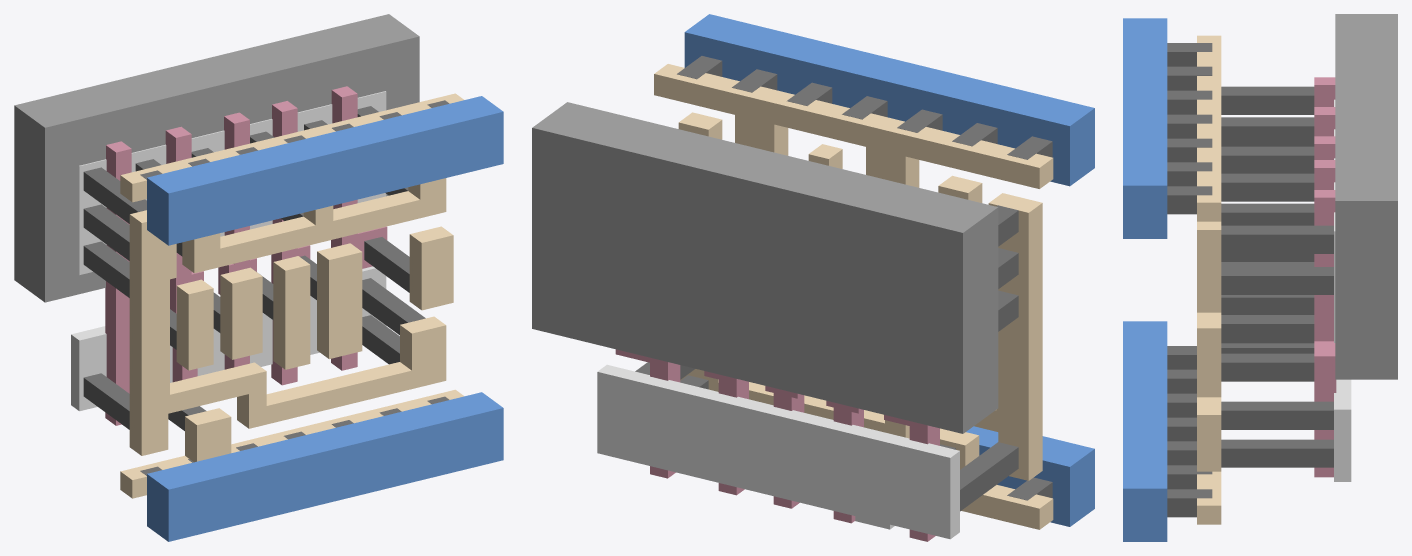
The model's file is sky130_fd_sc_hd__a41oi_1.gds.gltf.
3 renders of one model, left to right at view 1: azimuth 30°, elevation 25°; view 2: azimuth 150°, elevation 25°; view 3: azimuth 270°, elevation 25°, orthographic. The views are drawn at different scales.
Visible parts, largest first — view 1: sky130_fd_sc_hd__a41oi_1_li1, sky130_fd_sc_hd__a41oi_1_met1, sky130_fd_sc_hd__a41oi_1_nwell, sky130_fd_sc_hd__a41oi_1_licon, sky130_fd_sc_hd__a41oi_1_poly, sky130_fd_sc_hd__a41oi_1_diff, sky130_fd_sc_hd__a41oi_1_mcon; view 2: sky130_fd_sc_hd__a41oi_1_nwell, sky130_fd_sc_hd__a41oi_1_li1, sky130_fd_sc_hd__a41oi_1_diff, sky130_fd_sc_hd__a41oi_1_met1, sky130_fd_sc_hd__a41oi_1_mcon, sky130_fd_sc_hd__a41oi_1_licon, sky130_fd_sc_hd__a41oi_1_poly; view 3: sky130_fd_sc_hd__a41oi_1_licon, sky130_fd_sc_hd__a41oi_1_nwell, sky130_fd_sc_hd__a41oi_1_met1, sky130_fd_sc_hd__a41oi_1_mcon, sky130_fd_sc_hd__a41oi_1_li1, sky130_fd_sc_hd__a41oi_1_poly, sky130_fd_sc_hd__a41oi_1_diff.
Boxes of the visible parts, <box> form: sky130_fd_sc_hd__a41oi_1_li1: <box>120,93,463,498</box>; sky130_fd_sc_hd__a41oi_1_met1: <box>147,96,503,541</box>; sky130_fd_sc_hd__a41oi_1_nwell: <box>14,14,419,302</box>; sky130_fd_sc_hd__a41oi_1_licon: <box>83,106,425,430</box>; sky130_fd_sc_hd__a41oi_1_poly: <box>105,86,387,425</box>; sky130_fd_sc_hd__a41oi_1_diff: <box>71,91,386,411</box>; sky130_fd_sc_hd__a41oi_1_mcon: <box>140,100,449,475</box>; sky130_fd_sc_hd__a41oi_1_nwell: <box>532,102,998,433</box>; sky130_fd_sc_hd__a41oi_1_li1: <box>654,64,1053,529</box>; sky130_fd_sc_hd__a41oi_1_diff: <box>597,364,959,539</box>; sky130_fd_sc_hd__a41oi_1_met1: <box>684,14,1094,526</box>; sky130_fd_sc_hd__a41oi_1_mcon: <box>677,56,1052,500</box>; sky130_fd_sc_hd__a41oi_1_licon: <box>635,205,1018,511</box>; sky130_fd_sc_hd__a41oi_1_poly: <box>615,349,939,541</box>; sky130_fd_sc_hd__a41oi_1_licon: <box>1221,86,1333,467</box>; sky130_fd_sc_hd__a41oi_1_nwell: <box>1335,14,1397,379</box>; sky130_fd_sc_hd__a41oi_1_met1: <box>1123,18,1167,541</box>; sky130_fd_sc_hd__a41oi_1_mcon: <box>1167,43,1212,517</box>; sky130_fd_sc_hd__a41oi_1_li1: <box>1197,35,1221,524</box>; sky130_fd_sc_hd__a41oi_1_poly: <box>1314,77,1336,477</box>; sky130_fd_sc_hd__a41oi_1_diff: <box>1334,99,1351,481</box>.
Bounding box in the file's own units: 3.6 × 3.2 × 2.24.
